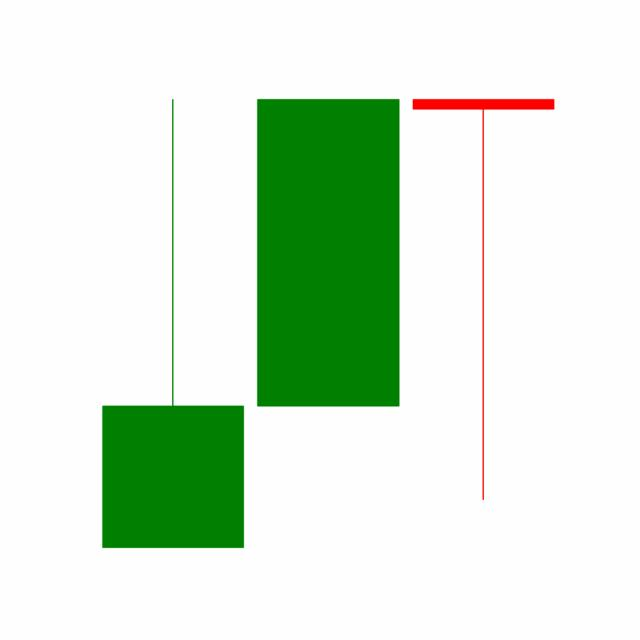Marubozu: (249, 95, 406, 409)
